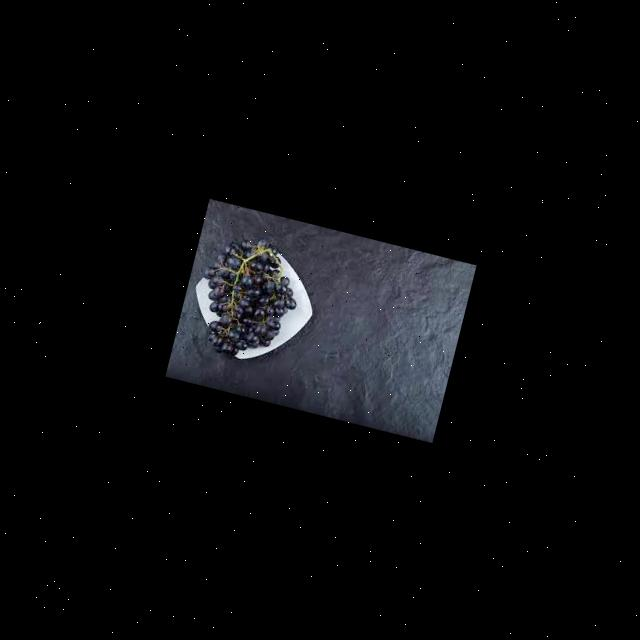grape: (185, 225, 309, 366)
